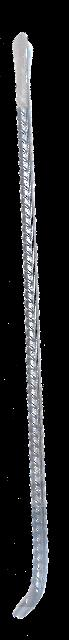crow bar: (5, 24, 69, 640)
